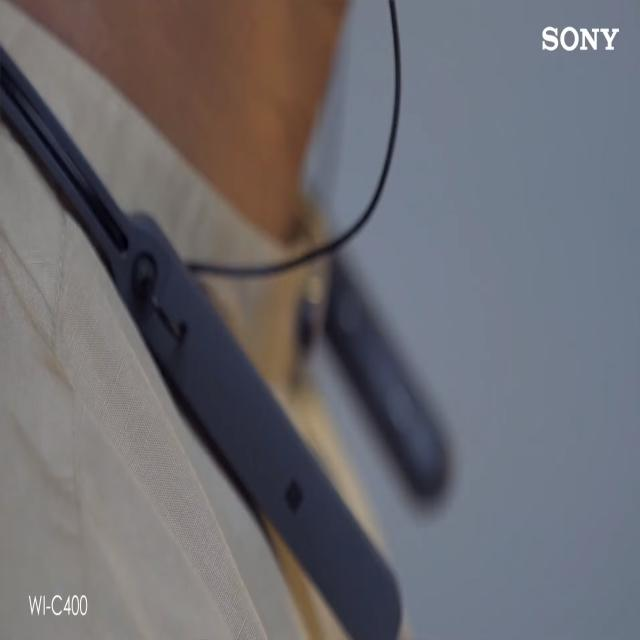Neckband: (0, 2, 457, 640)
